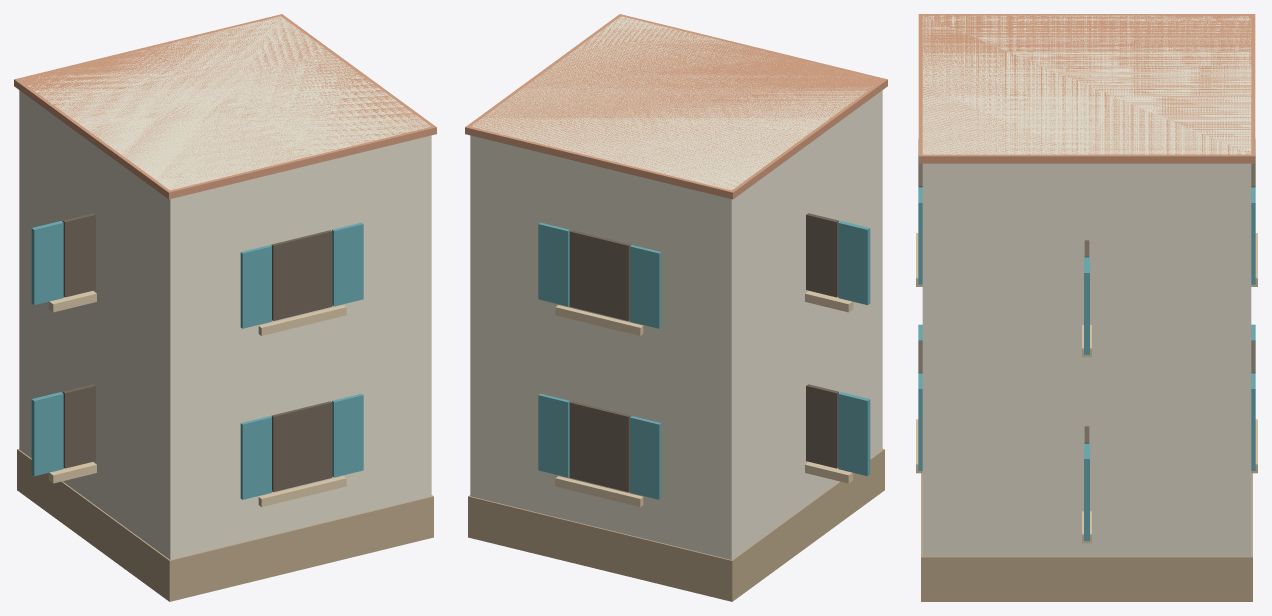
File: SD_Block.fbx
3 views of the same model, side by side, from view 1: azimuth 30°, elevation 25°; view 2: azimuth 150°, elevation 25°; view 3: azimuth 270°, elevation 25° (orthographic). The views are drawn at different scales.
Parts seen in each view (by area): view 1: SD_Block; view 2: SD_Block; view 3: SD_Block.
Part boxes in pixels (left/top/right/bottom): SD_Block: left=14, top=14, right=436, bottom=601; SD_Block: left=465, top=14, right=887, bottom=601; SD_Block: left=916, top=14, right=1257, bottom=601.
Size of the model in its own units: 5.89 by 6 by 4.16.
